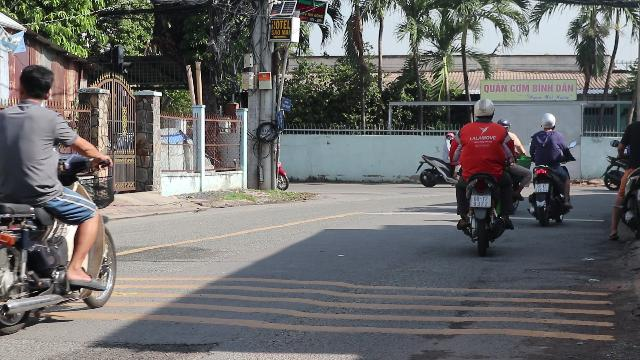helmet: (472, 97, 494, 121), (538, 112, 556, 130)
licenseplate: (471, 195, 491, 207), (534, 184, 548, 192)
motorcyclist: (1, 64, 121, 332), (448, 97, 518, 253), (526, 112, 574, 226)
nohelmet: (15, 64, 55, 106)
